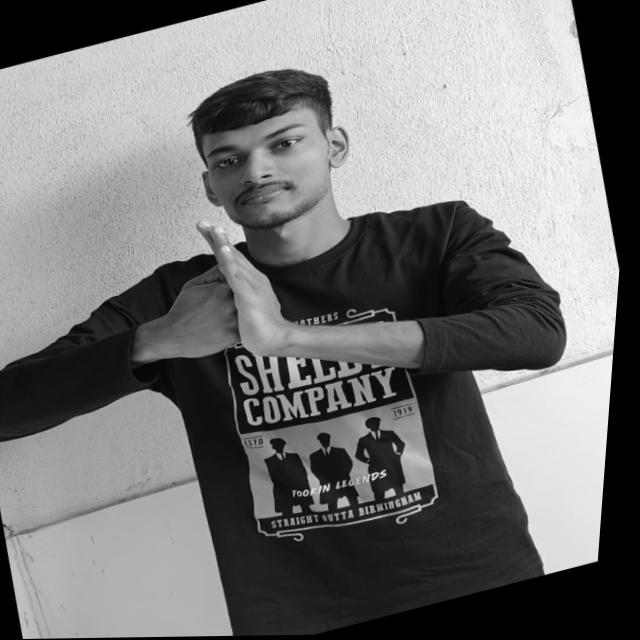Well Done: (131, 202, 313, 385)
